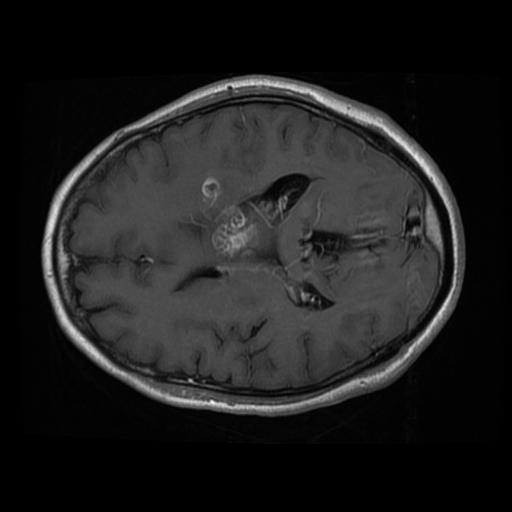glioma: (179, 173, 265, 264)
